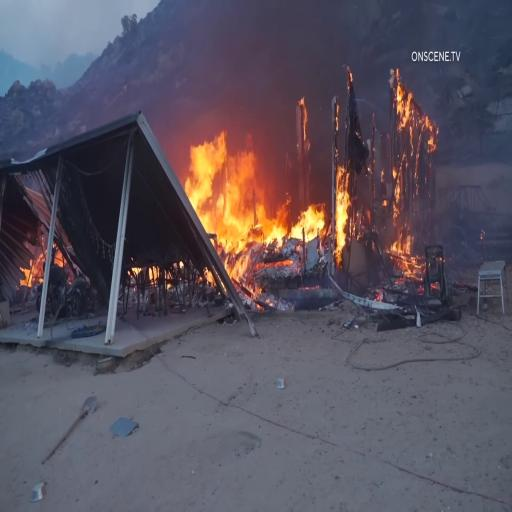fire: (192, 128, 263, 242), (262, 194, 334, 252)
